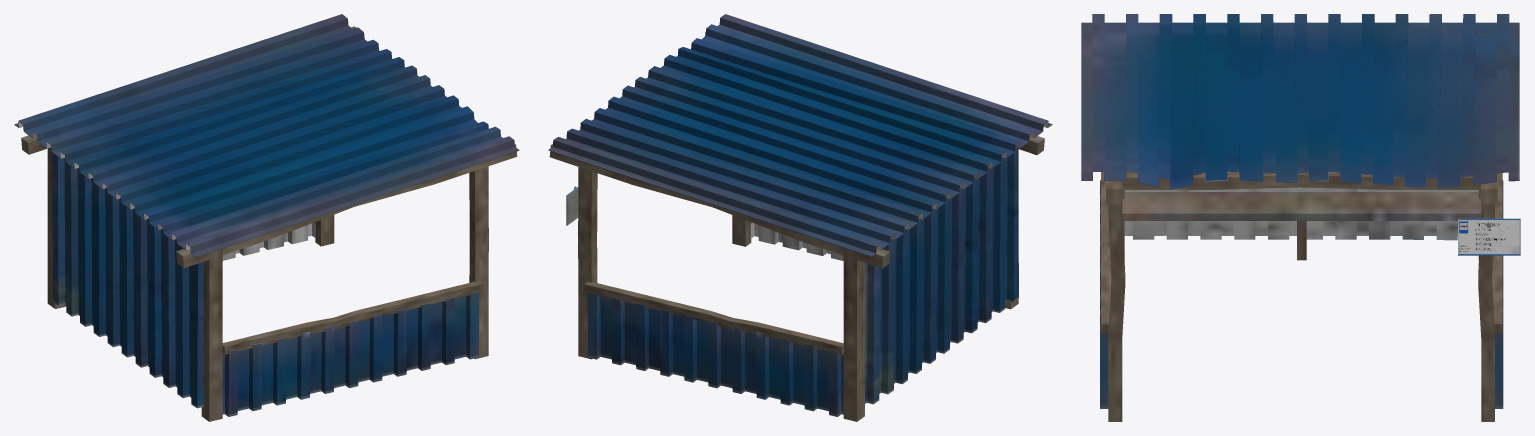
Rendered from shelter_237.glb.
The picture shows the model from 3 angles, left to right: view 1: azimuth 30°, elevation 25°; view 2: azimuth 150°, elevation 25°; view 3: azimuth 270°, elevation 25°; orthographic projection. The views are drawn at different scales.
Parts seen in each view (by area): view 1: shelter_237; view 2: shelter_237; view 3: shelter_237.
Boxes of the visible parts, x1,y1,x2,y2 form: shelter_237: [14, 14, 519, 421]; shelter_237: [548, 14, 1052, 421]; shelter_237: [1081, 14, 1520, 421].
Size of the model in its own units: 4.21 by 2.6 by 3.95.
1 material, 1 textured.
